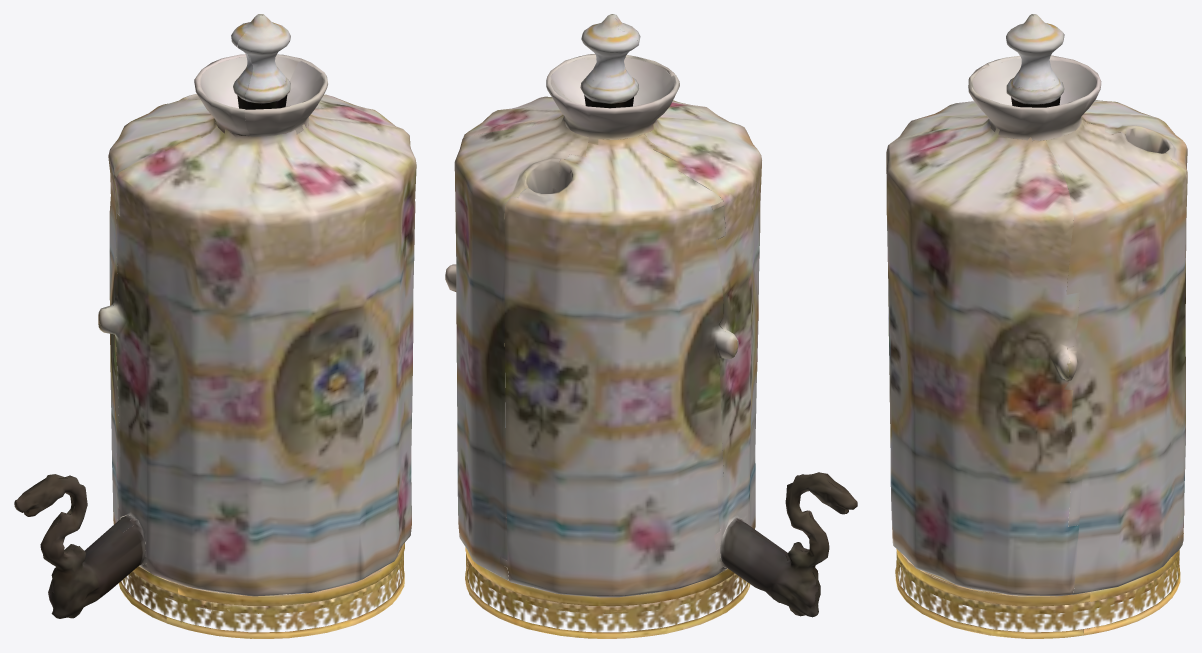
Rendered from obj_perfume_bottle_with_floral_d.glb.
The picture shows the model from 3 angles, left to right: view 1: azimuth 30°, elevation 25°; view 2: azimuth 150°, elevation 25°; view 3: azimuth 270°, elevation 25°; orthographic projection.
Visible parts, largest first — view 1: FZRS_20_flakon_w_form_bukl_uv_edi08w_0; view 2: FZRS_20_flakon_w_form_bukl_uv_edi08w_0; view 3: FZRS_20_flakon_w_form_bukl_uv_edi08w_0.
Part boxes in pixels (left/top/right/bottom): FZRS_20_flakon_w_form_bukl_uv_edi08w_0: left=14, top=14, right=416, bottom=638; FZRS_20_flakon_w_form_bukl_uv_edi08w_0: left=445, top=14, right=857, bottom=638; FZRS_20_flakon_w_form_bukl_uv_edi08w_0: left=886, top=14, right=1187, bottom=638.
Size of the model in its own units: 0.1168 by 0.16 by 0.0777.
3 materials, 3 textured.
